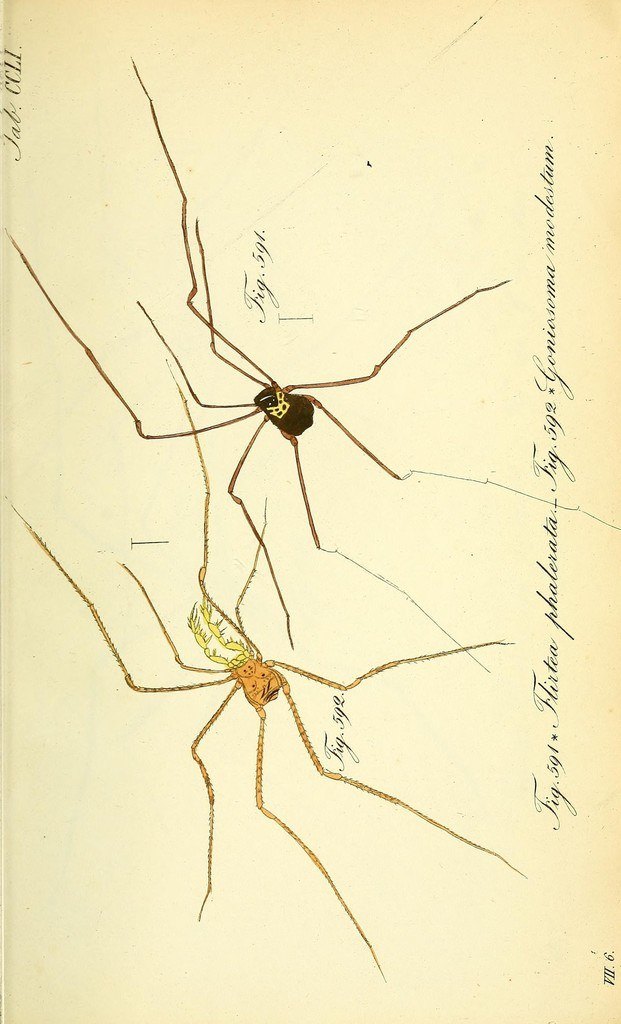insect: (0, 53, 620, 680), (0, 55, 620, 644), (0, 356, 523, 987), (4, 361, 532, 980)
